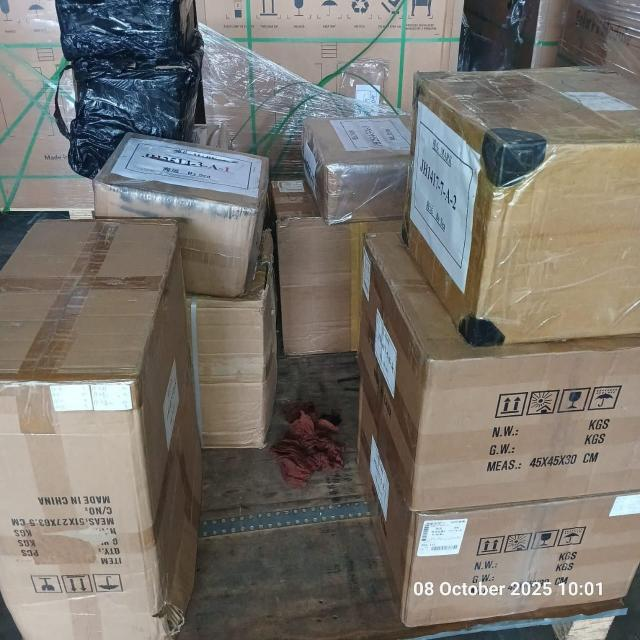carton_box: (3, 215, 216, 640), (351, 218, 640, 511), (338, 356, 638, 628), (392, 59, 640, 344)
export_mark_label: (408, 92, 480, 310), (121, 130, 265, 206), (366, 306, 413, 410), (361, 430, 404, 530), (418, 516, 469, 560)
fragile_label: (30, 570, 63, 602), (562, 389, 592, 414), (538, 526, 558, 554)
keep_dry_label: (558, 524, 586, 552), (94, 573, 130, 594), (594, 386, 620, 414)
package_damage: (148, 586, 200, 640), (252, 252, 282, 302)
protect_from_heat_label: (529, 388, 561, 420), (506, 529, 532, 559)
this_side_up_label: (58, 566, 94, 600), (494, 390, 528, 420), (478, 536, 506, 558)
